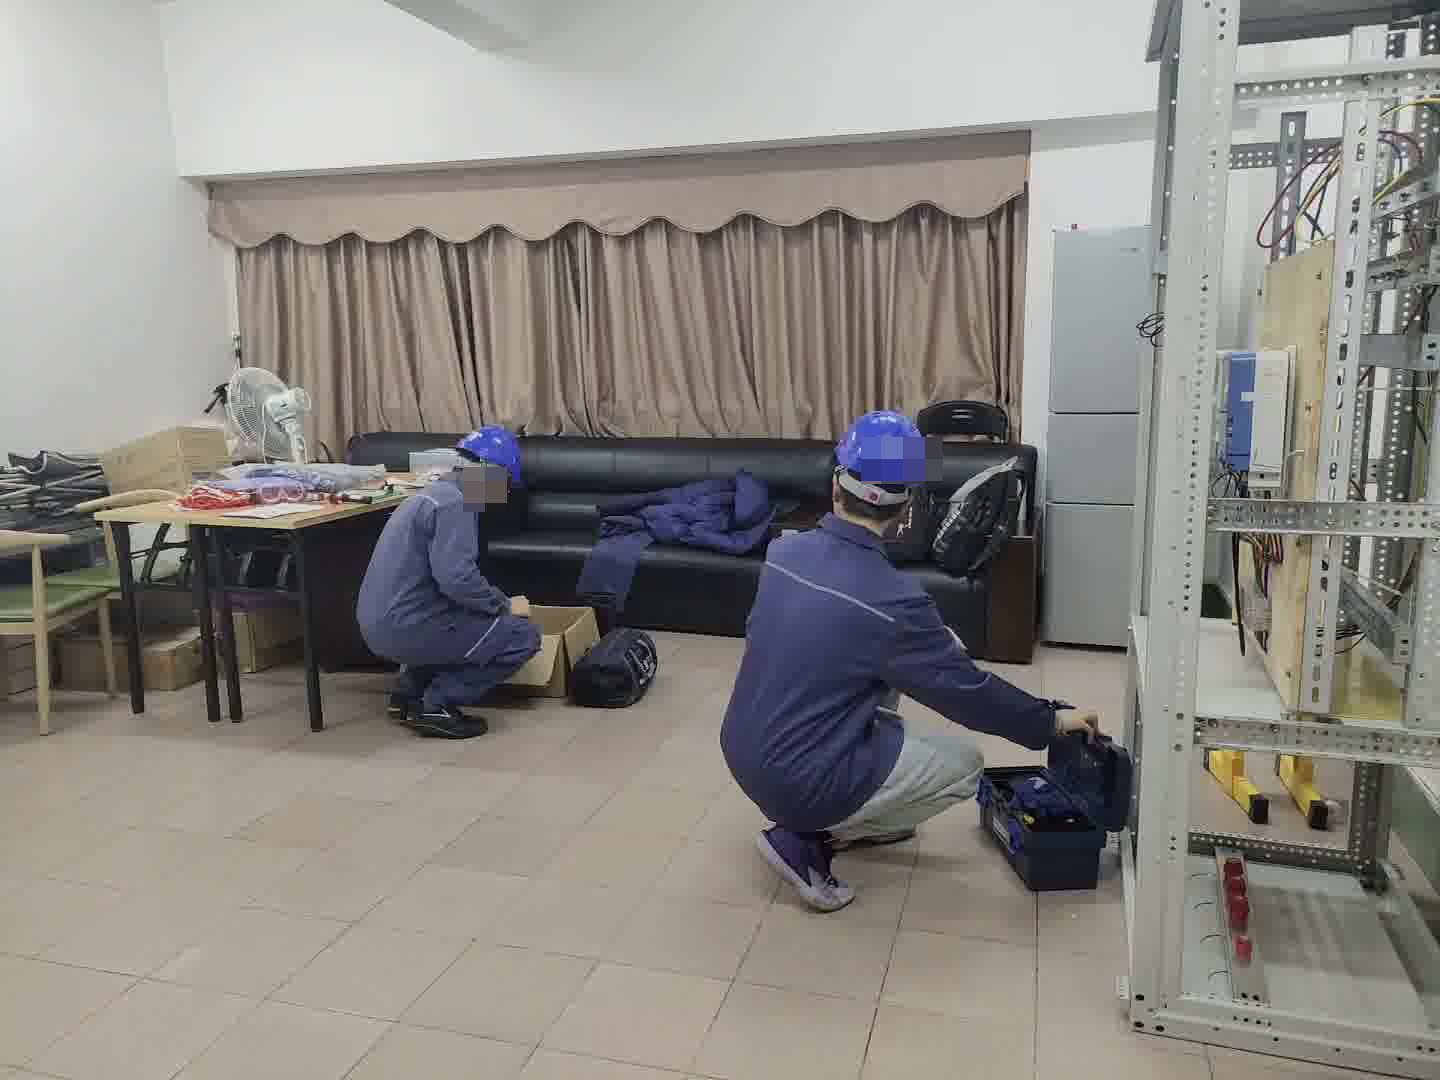downcloth: (825, 720, 993, 846)
downsuit: (386, 604, 547, 719)
halt: (829, 409, 927, 523), (446, 425, 524, 509)
hand: (1051, 703, 1099, 750), (507, 596, 527, 619)
inear: (476, 462, 505, 500)
person: (714, 401, 1129, 919), (351, 416, 543, 746)
upsuit: (721, 517, 1059, 828), (351, 480, 515, 656)
